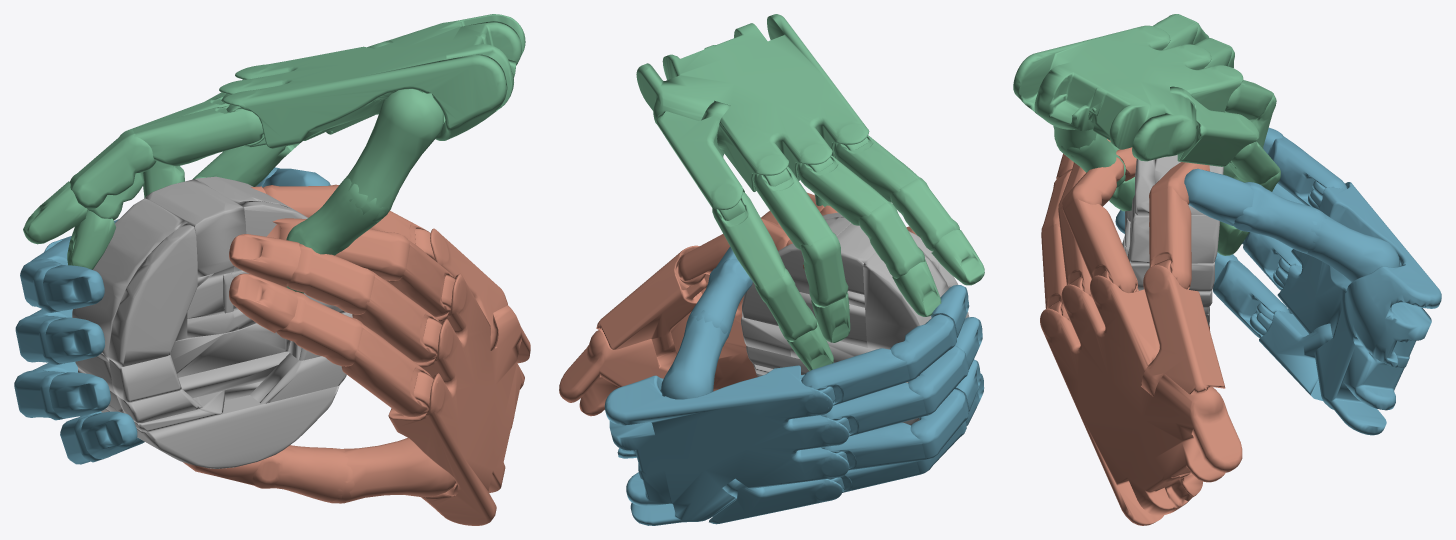
3 renders of one model, left to right at view 1: azimuth 30°, elevation 25°; view 2: azimuth 150°, elevation 25°; view 3: azimuth 270°, elevation 25°, orthographic. The views are drawn at different scales.
Bounding box in the file's own units: 0.2351 × 0.2333 × 0.2038.
